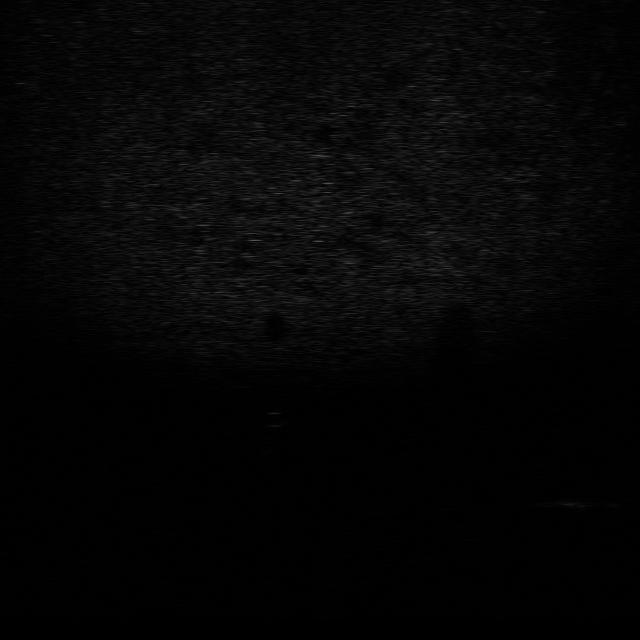ball: (259, 410, 289, 430)
metal bucket: (535, 494, 621, 514)
tyre: (436, 506, 485, 548)
